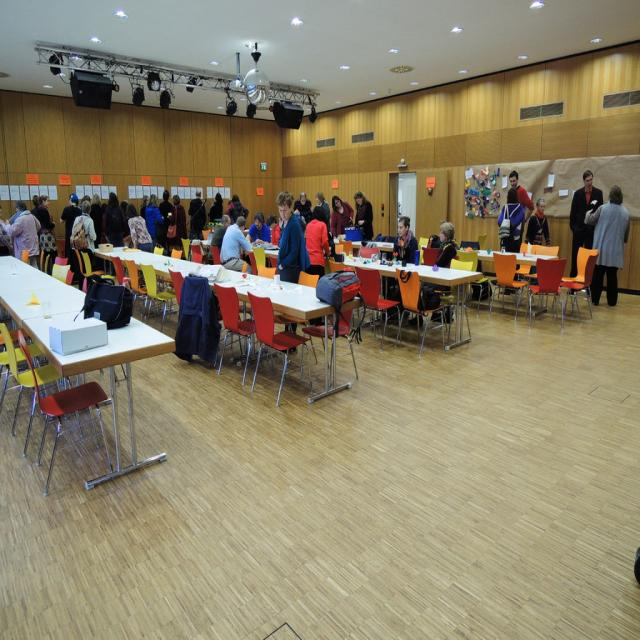chair: (25, 369, 117, 498), (248, 292, 312, 408), (301, 278, 360, 400), (0, 324, 44, 438), (396, 268, 451, 358), (213, 283, 254, 380), (353, 267, 401, 349), (560, 247, 598, 324), (528, 257, 567, 330), (490, 252, 530, 323), (138, 264, 176, 334)
desk: (94, 243, 360, 404)
person: (591, 183, 630, 309), (568, 169, 604, 276), (274, 191, 308, 285), (2, 200, 42, 266), (498, 176, 530, 252), (220, 213, 259, 274), (305, 205, 331, 276), (524, 198, 552, 246), (392, 215, 418, 265)
